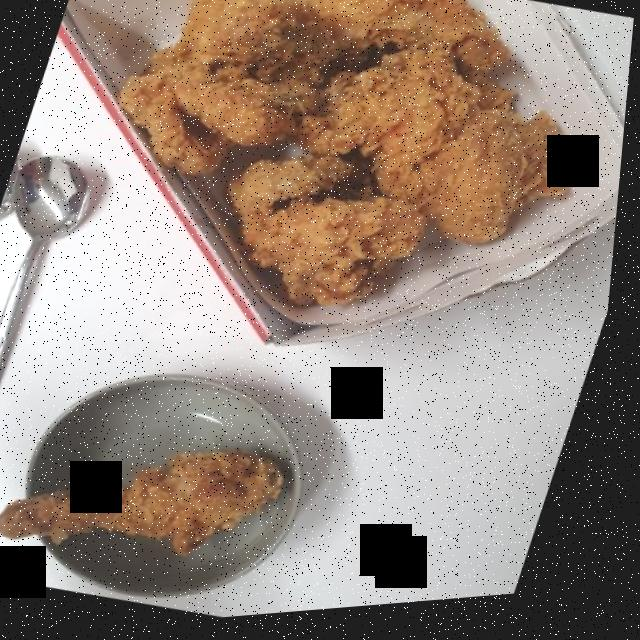Frango: (74, 0, 631, 380), (0, 387, 315, 619)
